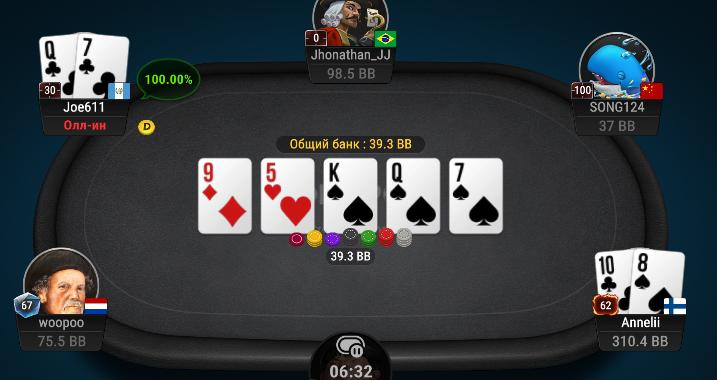10c: (596, 251, 632, 314)
5h: (261, 158, 314, 233)
7c: (76, 32, 127, 97)
7s: (448, 159, 502, 232)
8s: (632, 246, 685, 312)
9d: (199, 158, 252, 233)
Ks: (324, 159, 376, 229)
Qc: (39, 35, 77, 96)
Qs: (388, 158, 440, 233)
